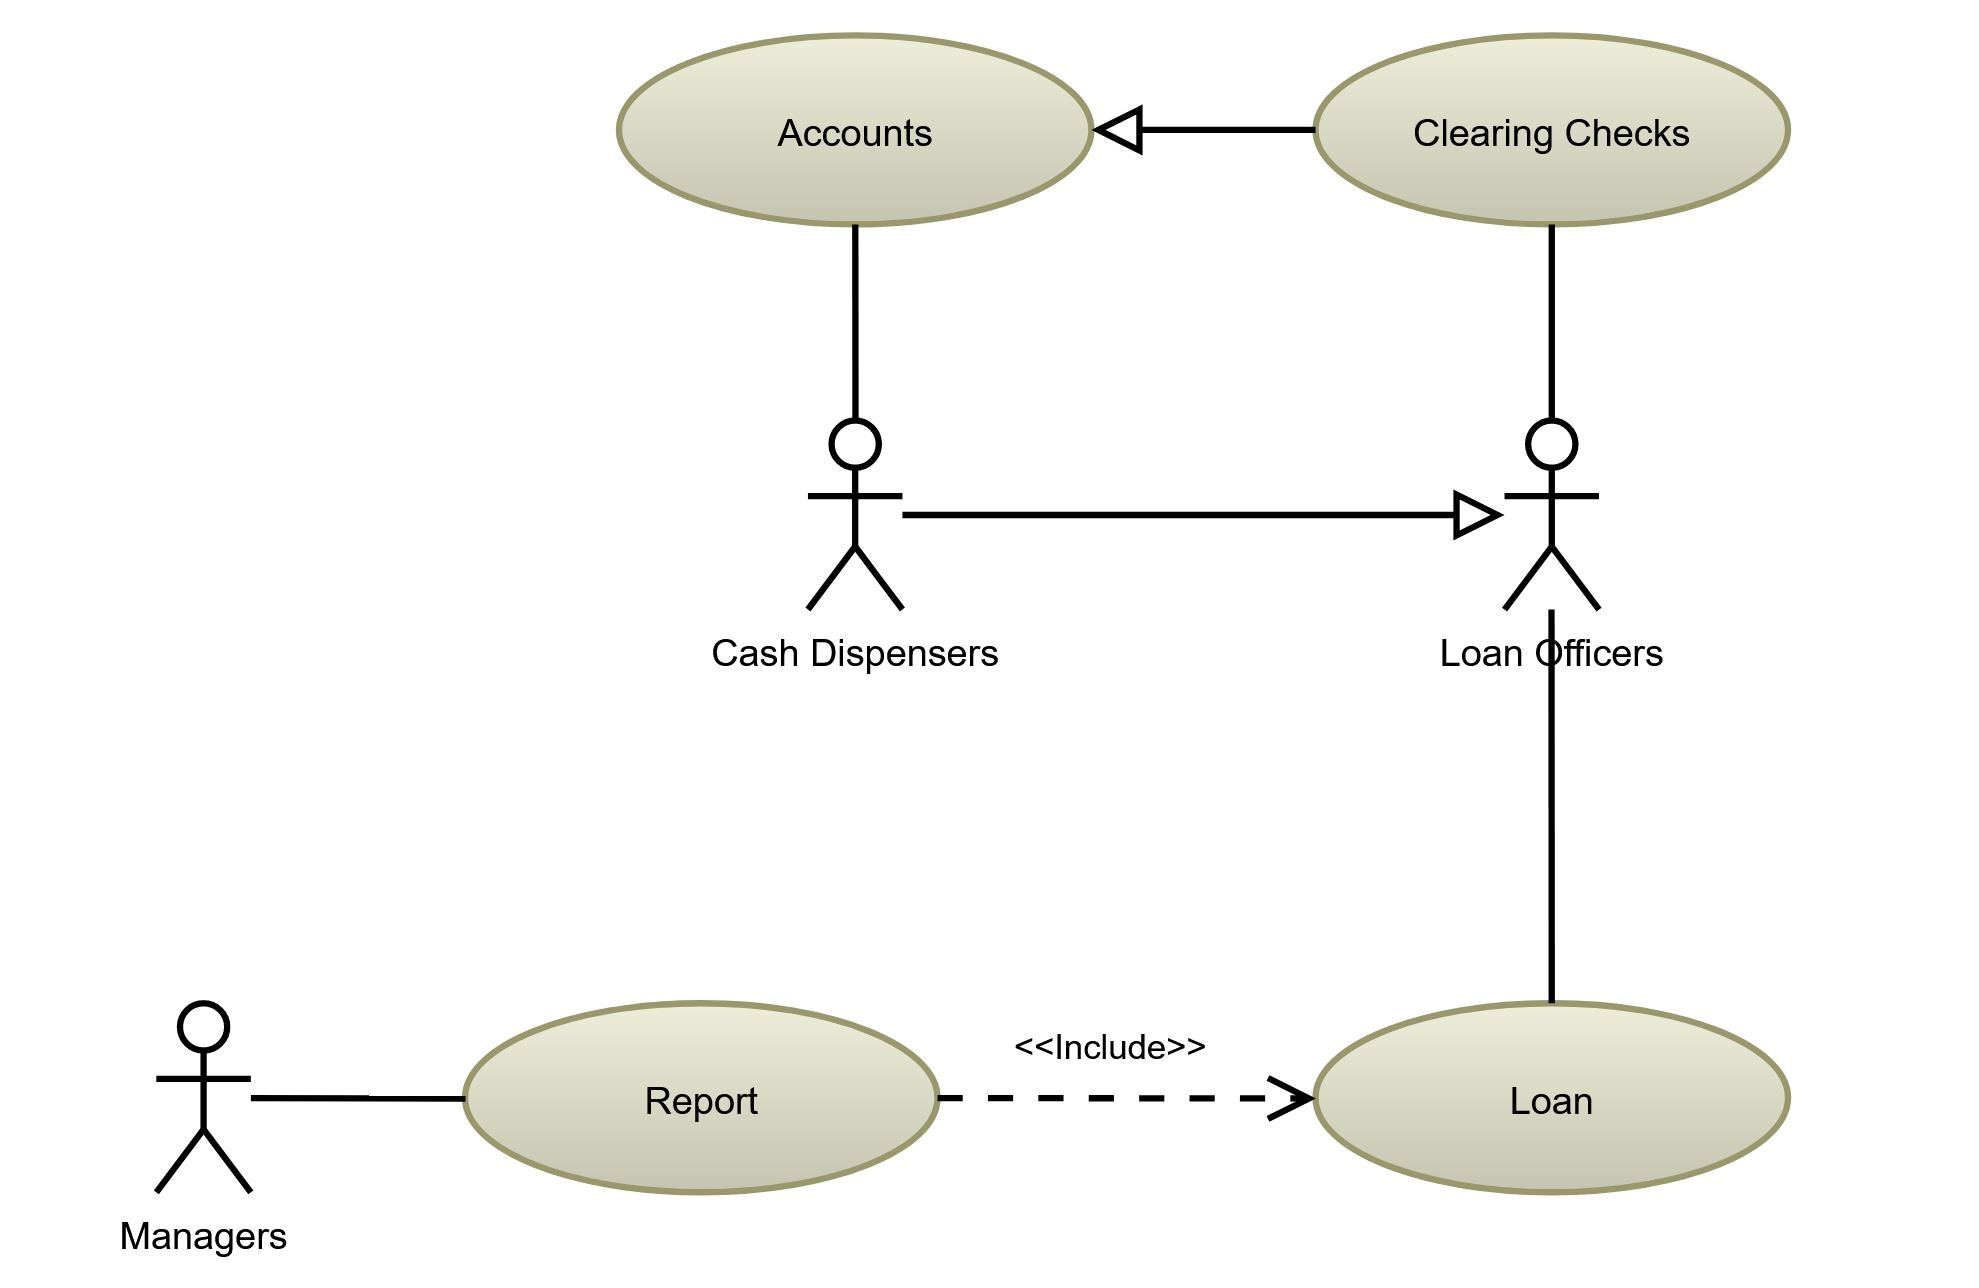actor: (151, 995, 265, 1200), (803, 411, 914, 614), (1497, 415, 1604, 617)
association: (902, 480, 1502, 548), (943, 1066, 1315, 1126), (1530, 609, 1582, 995), (255, 1063, 463, 1129), (1095, 100, 1315, 156), (1525, 225, 1571, 413), (834, 224, 876, 410)
text: (1403, 100, 1696, 163), (715, 627, 995, 681), (1015, 1015, 1207, 1073), (1437, 638, 1680, 679), (110, 1209, 299, 1262), (744, 111, 945, 160), (633, 1067, 785, 1128), (1502, 1077, 1605, 1124)
use_case: (614, 27, 1101, 232), (453, 995, 939, 1199), (1308, 27, 1791, 229), (1310, 1001, 1794, 1200)
